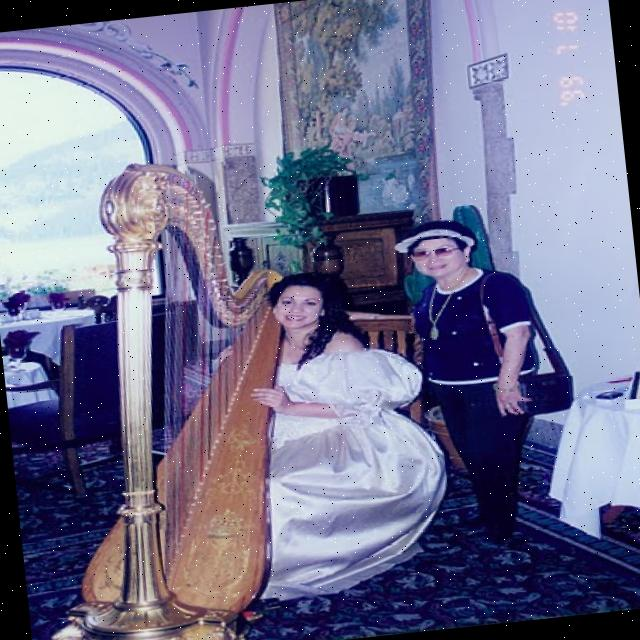harp: (25, 143, 322, 640)
